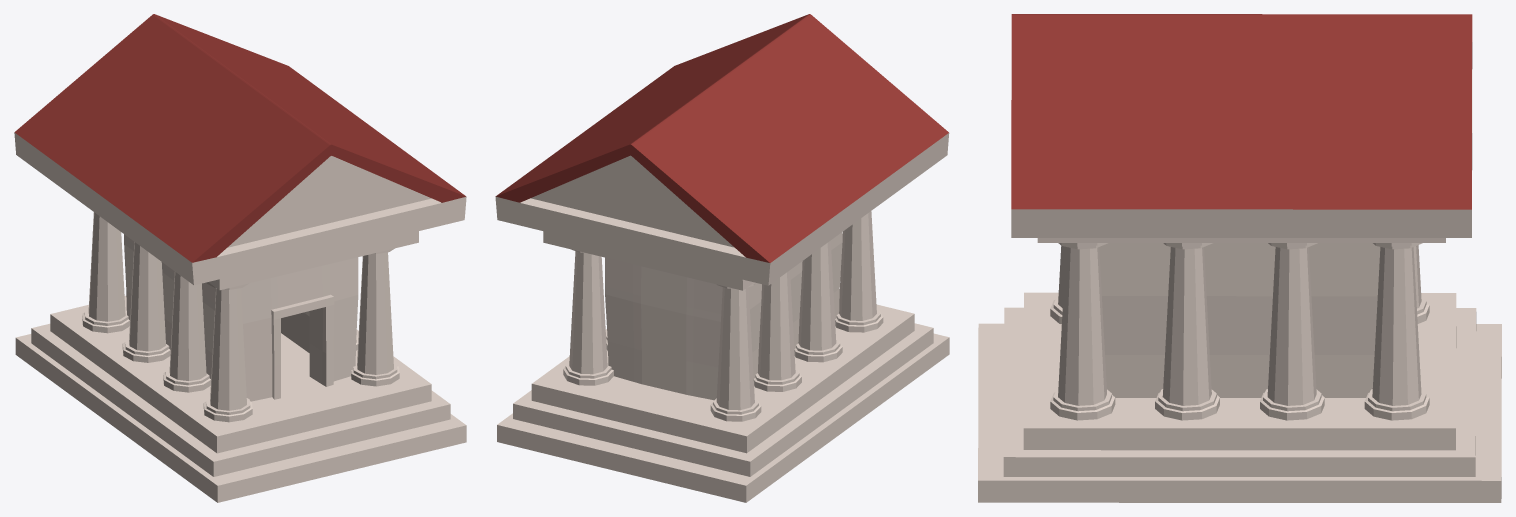
The model's file is Isl_6_Temple.fbx.
The picture shows the model from 3 angles, left to right: view 1: azimuth 30°, elevation 25°; view 2: azimuth 150°, elevation 25°; view 3: azimuth 270°, elevation 25°; orthographic projection. The views are drawn at different scales.
Visible parts, largest first — view 1: Isl_6_Temple; view 2: Isl_6_Temple; view 3: Isl_6_Temple.
Boxes of the visible parts, bbox=[...] form: Isl_6_Temple: bbox=[14, 14, 466, 502]; Isl_6_Temple: bbox=[495, 14, 949, 502]; Isl_6_Temple: bbox=[978, 14, 1501, 502].
Bounding box in the file's own units: 685 × 875 × 758.
Materials: 1 (1 with a texture image).
